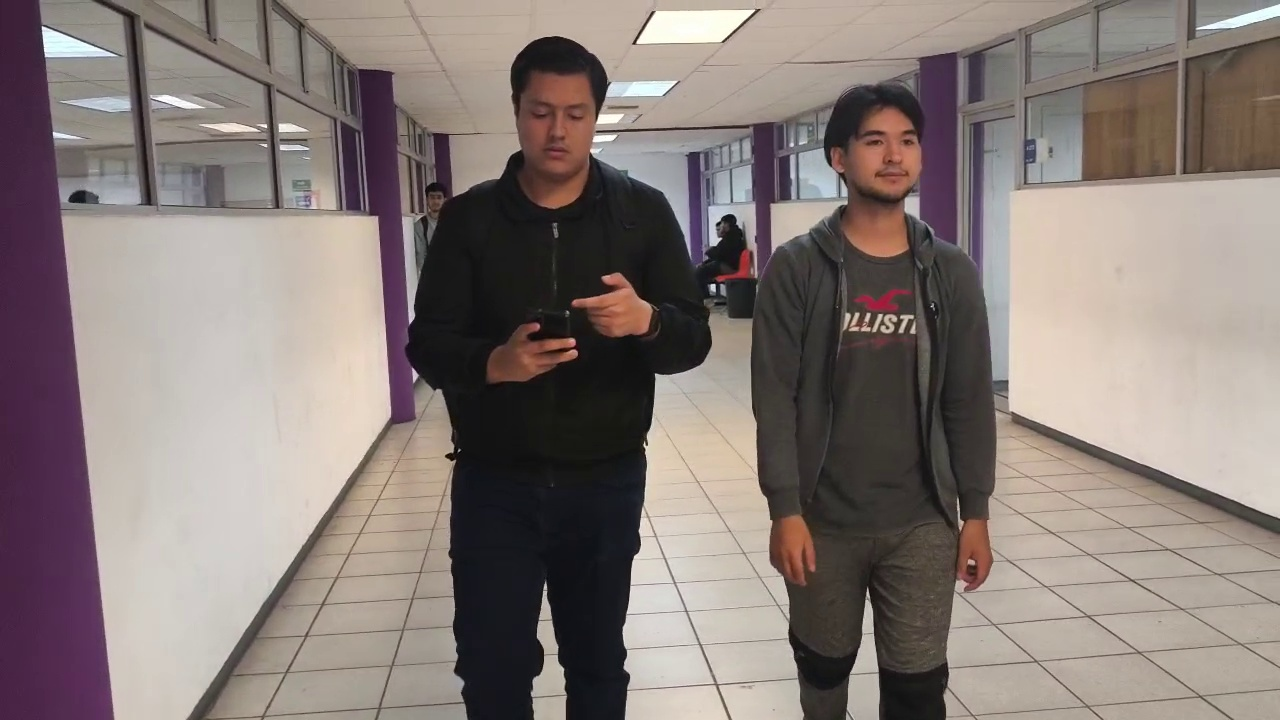mixto2: (514, 302, 575, 354)
